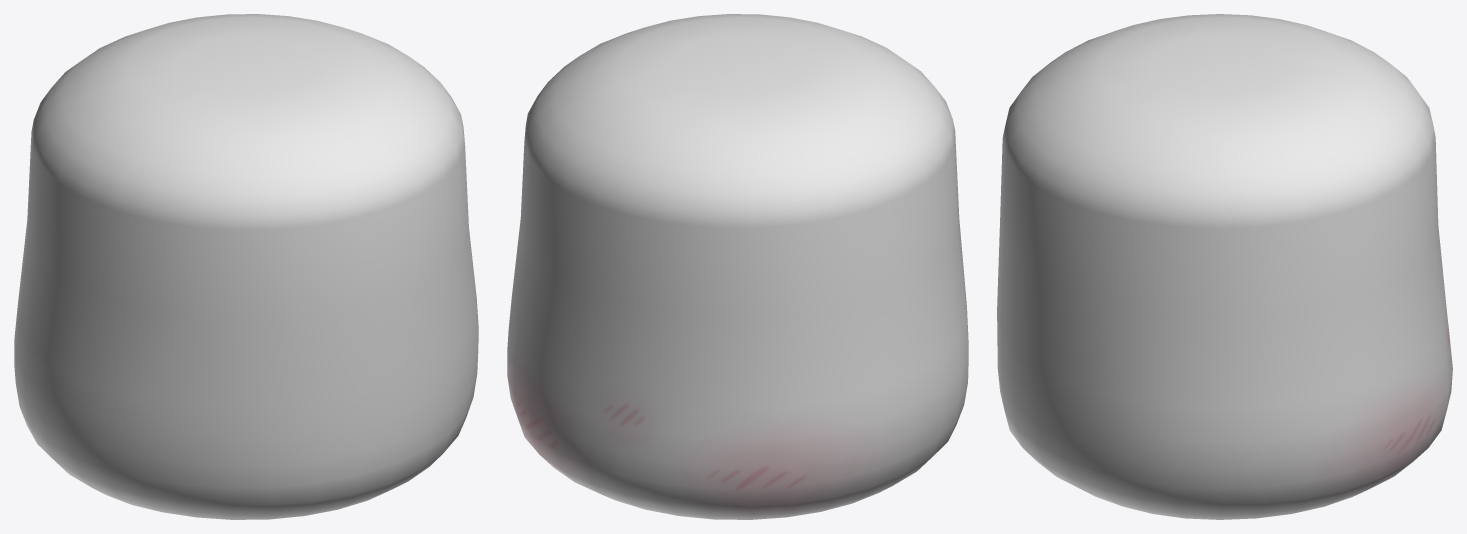
The model's file is 32-Chibi-Retro-Wink-Customizable-face.glb.
The picture shows the model from 3 angles, left to right: view 1: azimuth 30°, elevation 25°; view 2: azimuth 150°, elevation 25°; view 3: azimuth 270°, elevation 25°; orthographic projection.
Parts seen in each view (by area): view 1: 32-Chibi-Retro-Wink-Customizable-face; view 2: 32-Chibi-Retro-Wink-Customizable-face; view 3: 32-Chibi-Retro-Wink-Customizable-face.
Boxes of the visible parts, <box> form: 32-Chibi-Retro-Wink-Customizable-face: <box>14,14,478,519</box>; 32-Chibi-Retro-Wink-Customizable-face: <box>507,14,968,519</box>; 32-Chibi-Retro-Wink-Customizable-face: <box>997,14,1452,519</box>.
Size of the model in its own units: 1.23 by 1.18 by 1.2.
Materials: 1 (1 with a texture image).
